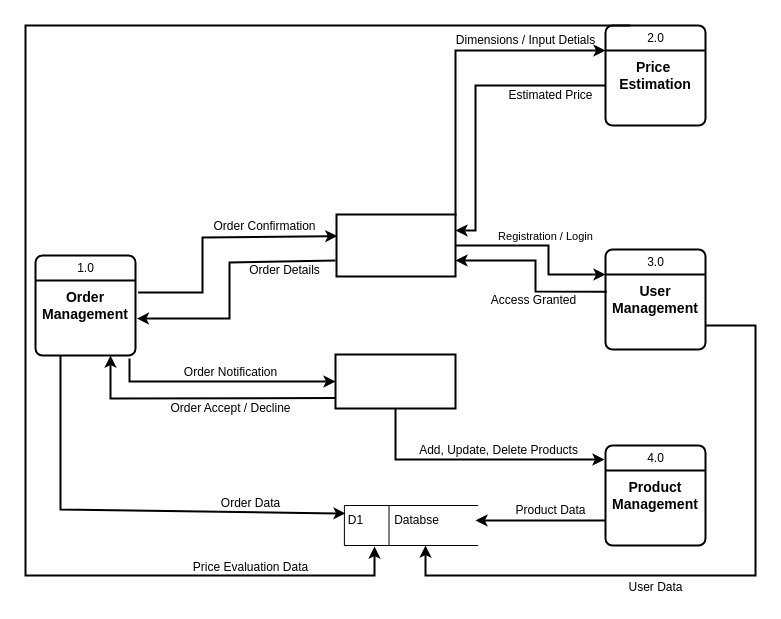
The diagram is 781 pixels wide and 619 high, and some of its shapes have lost their labels. Here are the shapes that lost their labels. From the top down, the centre of each, then its label:
At (x=395, y=245): "Customer".
At (x=395, y=381): "Admin".
